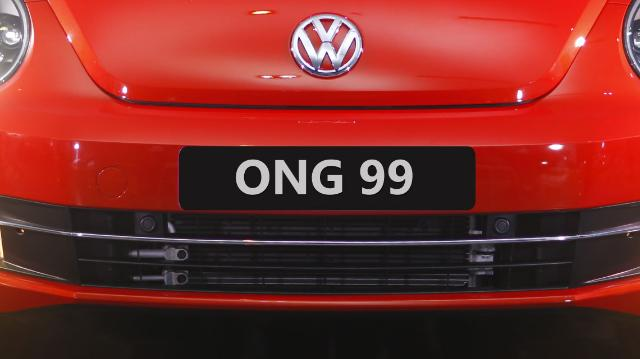License_Plate: (177, 142, 485, 225)
